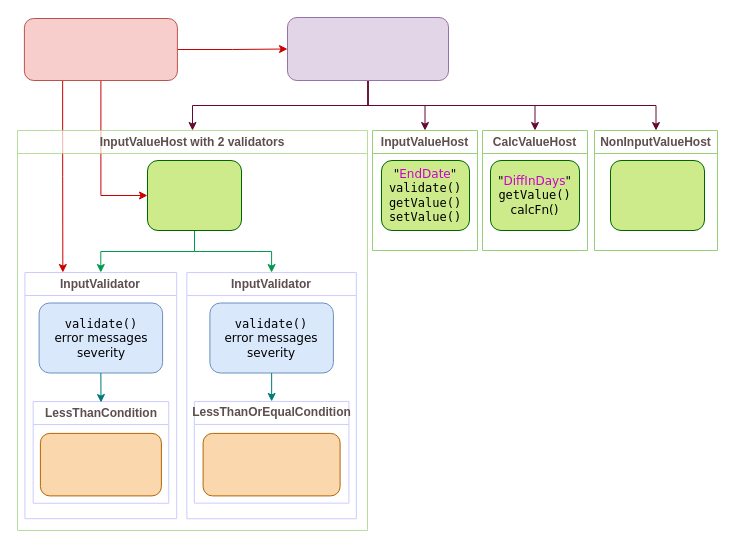
Some shapes in this 735 by 548 pixel diagram are drawn without their labels. Each missing label, with the centre of its shape:
" StartDate " validate() getValue() setValue(): (194,195)
" TimeZone " getValue() setValue(): (657,195)
DiffDate <= 10 evaluate(): (271,464)
StartDate < EndDate evaluate(): (100,464)
ValidationManager validate() getIssuesFound(): (367,48)
ValidationServices factories services: (100,49)
